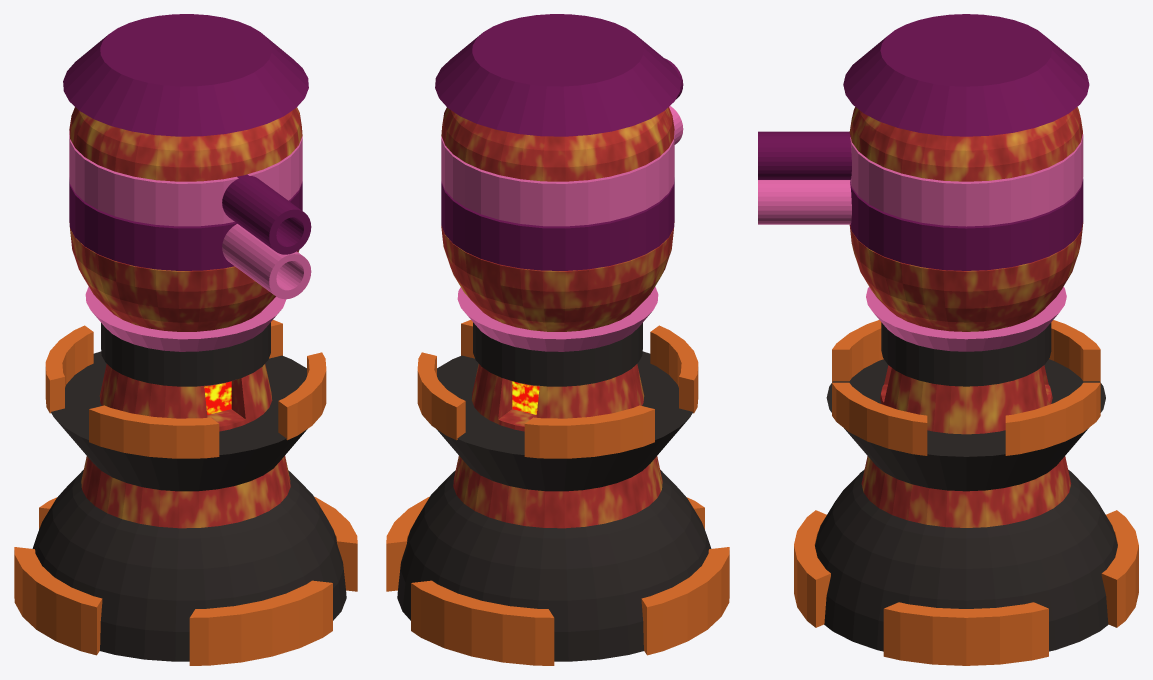
File: Turm9.fbx
3 renders of one model, left to right at view 1: azimuth 30°, elevation 25°; view 2: azimuth 150°, elevation 25°; view 3: azimuth 270°, elevation 25°, orthographic.
Parts seen in each view (by area): view 1: Sphere.002, Sphere, Cone.002, Cylinder.006, Cone.003, Cylinder.005, Cylinder.003, Cylinder.002, Cylinder, Cylinder.004, Cone.001, Cylinder.001 (+1 smaller); view 2: Sphere.002, Sphere, Cone.002, Cylinder.006, Cone.003, Cylinder.005, Cylinder.003, Cylinder.002, Cylinder, Cone.001, Cube; view 3: Sphere.002, Sphere, Cone.002, Cylinder.006, Cylinder.005, Cylinder.003, Cylinder.002, Cone.003, Cylinder, Cylinder.004, Cylinder.001, Cone.001.
Boxes of the visible parts, x1,y1,x2,y2 form: Sphere.002: [69, 107, 302, 528]; Sphere: [32, 470, 346, 661]; Cone.002: [63, 14, 308, 136]; Cylinder.006: [14, 496, 357, 665]; Cone.003: [51, 351, 307, 491]; Cylinder.005: [45, 320, 326, 458]; Cylinder.003: [69, 131, 302, 226]; Cylinder.002: [69, 177, 302, 270]; Cylinder: [101, 322, 270, 386]; Cylinder.004: [222, 174, 311, 254]; Cone.001: [85, 286, 286, 351]; Cylinder.001: [222, 224, 311, 299]; Sphere.002: [441, 107, 674, 528]; Sphere: [397, 470, 711, 661]; Cone.002: [435, 14, 680, 136]; Cylinder.006: [386, 496, 729, 665]; Cone.003: [436, 351, 692, 491]; Cylinder.005: [417, 320, 698, 458]; Cylinder.003: [441, 131, 674, 226]; Cylinder.002: [441, 177, 674, 270]; Cylinder: [473, 322, 642, 386]; Cone.001: [457, 286, 658, 351]; Cube: [512, 381, 539, 414]; Sphere.002: [849, 107, 1083, 527]; Sphere: [815, 469, 1117, 651]; Cone.002: [843, 14, 1089, 136]; Cylinder.006: [794, 510, 1138, 665]; Cylinder.005: [832, 320, 1100, 455]; Cylinder.003: [850, 134, 1083, 226]; Cylinder.002: [850, 178, 1083, 270]; Cone.003: [826, 359, 1105, 491]; Cylinder: [881, 322, 1051, 386]; Cylinder.004: [758, 131, 851, 179]; Cylinder.001: [758, 180, 851, 224]; Cone.001: [866, 287, 1066, 351].
Bounding box in the file's own units: 295 × 513 × 326.
Materials: 7 (1 with a texture image).
